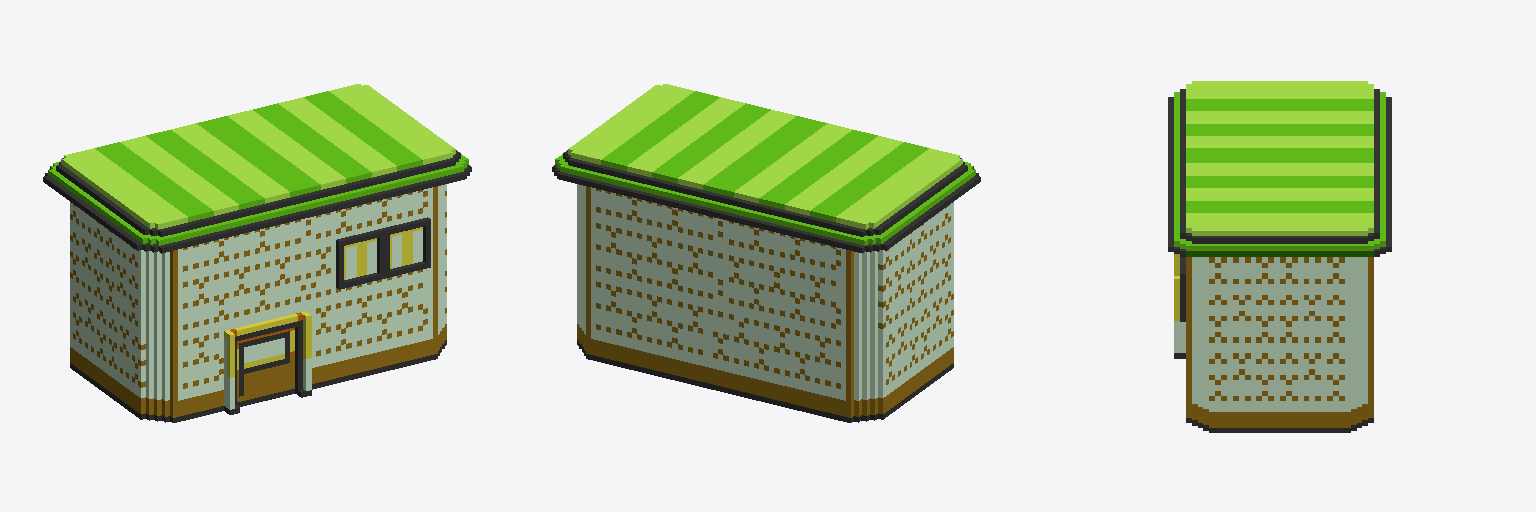
3 views of the same model, side by side, from view 1: azimuth 30°, elevation 25°; view 2: azimuth 150°, elevation 25°; view 3: azimuth 270°, elevation 25° (orthographic).
Visible parts, largest first — view 1: Model; view 2: Model; view 3: Model.
Part boxes in pixels (bbox=[...]): Model: bbox=[43, 84, 471, 422]; Model: bbox=[552, 84, 980, 422]; Model: bbox=[1168, 81, 1391, 432].
Size of the model in its own units: 32 by 18.71 by 18.71.
Materials: 1 (1 with a texture image).